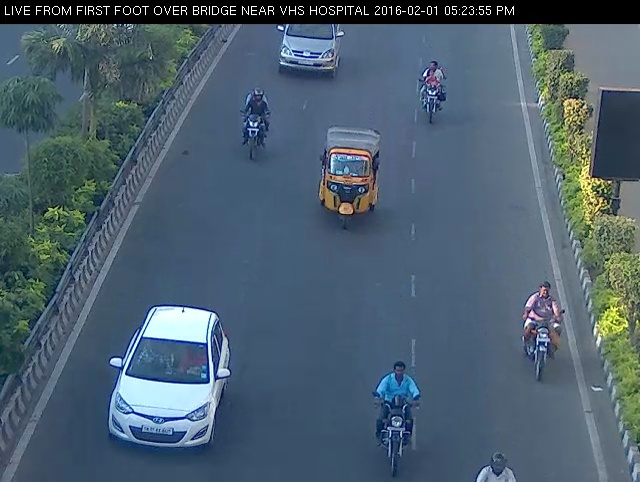Auto: (306, 113, 396, 242)
Car: (96, 301, 244, 456), (265, 14, 356, 85)
Person: (358, 343, 426, 477), (515, 270, 569, 392), (227, 77, 275, 168), (412, 55, 457, 136), (471, 445, 522, 482)
